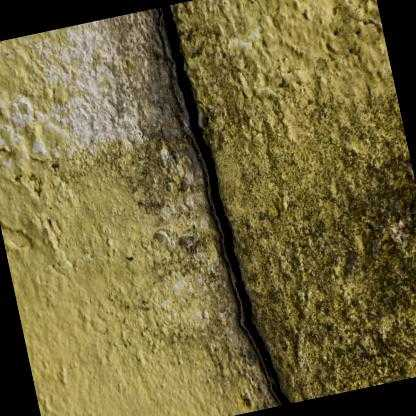crack: (156, 3, 292, 405)
